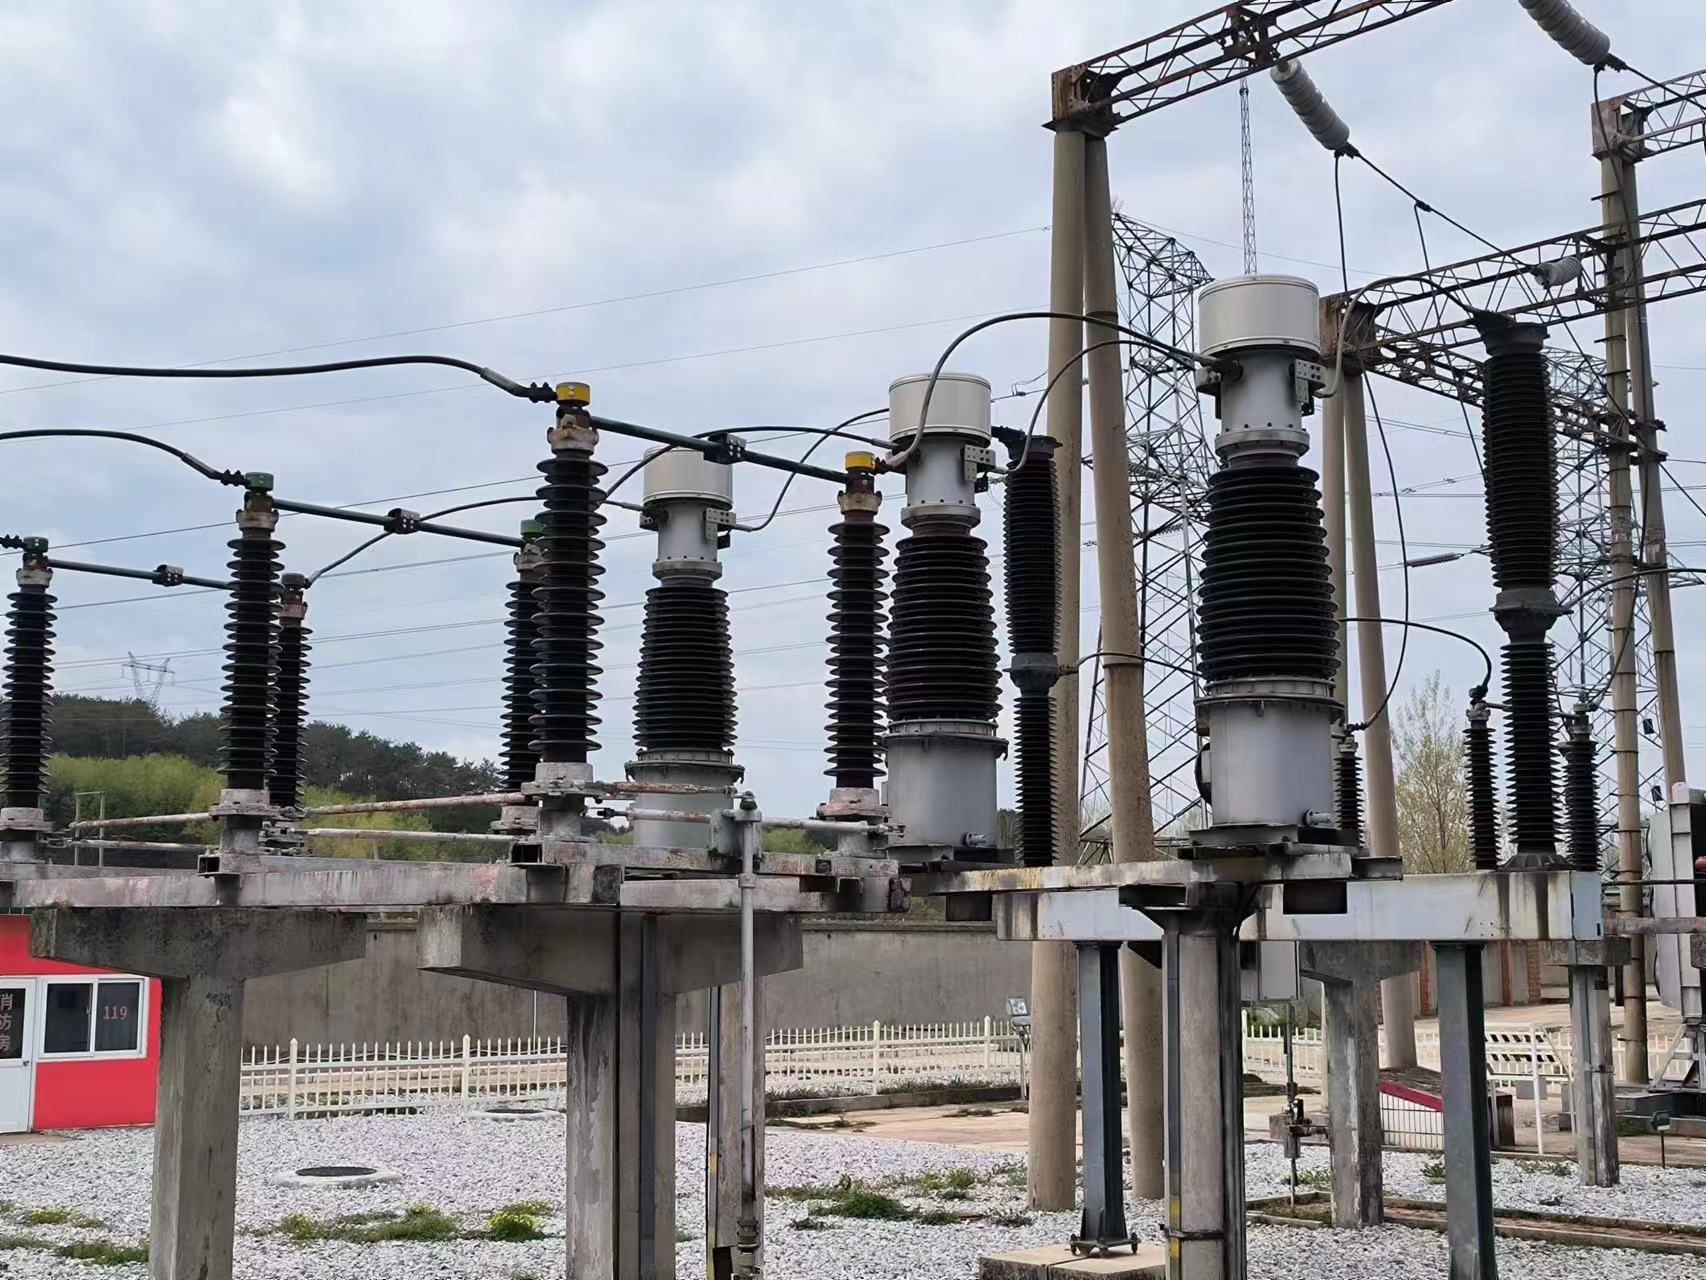Current transformer: (1188, 280, 1363, 830), (877, 375, 1006, 855), (628, 446, 753, 773)
